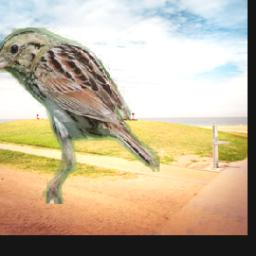Sparrow: (0, 28, 160, 205)
